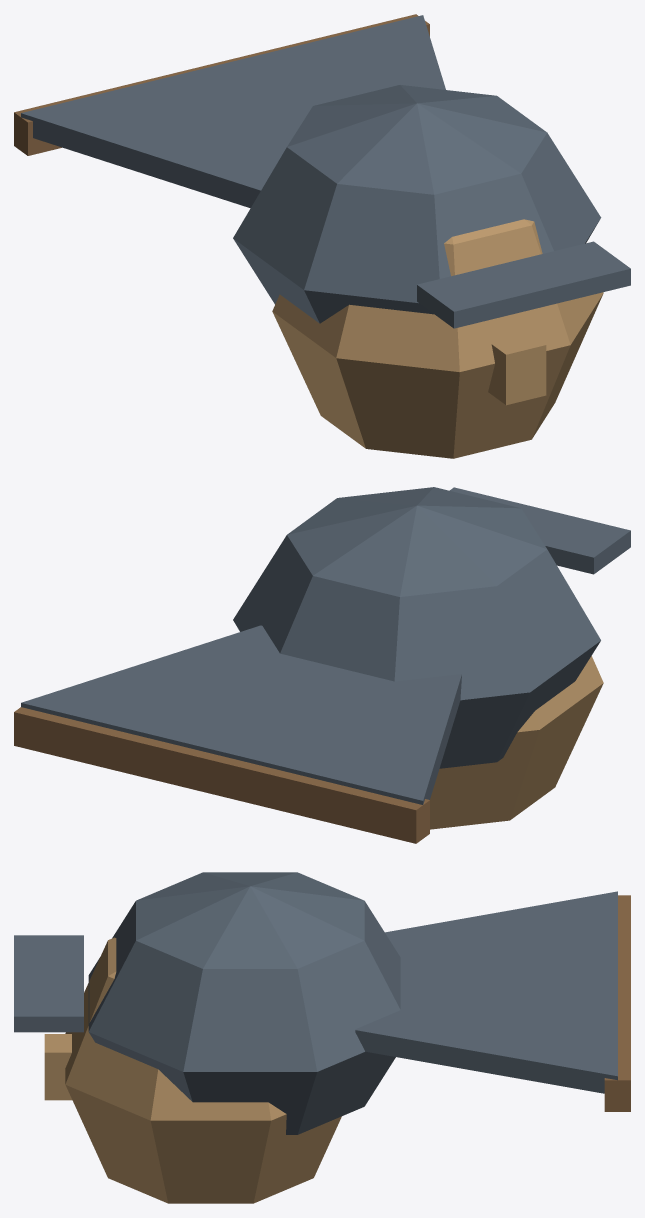
File: villager-head-fantail-slate.glb
3 views of the same model, one above another, from view 1: azimuth 30°, elevation 25°; view 2: azimuth 150°, elevation 25°; view 3: azimuth 270°, elevation 25° (orthographic). The views are drawn at different scales.
Visible parts, largest first — view 1: head; view 2: head; view 3: head.
Part boxes in pixels (x1,y1,x2,y2): head: [14, 14, 630, 458]; head: [14, 487, 630, 843]; head: [14, 872, 630, 1203].
Size of the model in its own units: 1 by 0.796 by 1.41.
1 material, 1 textured.
